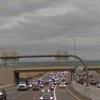Bridge: (10, 56, 100, 76)
